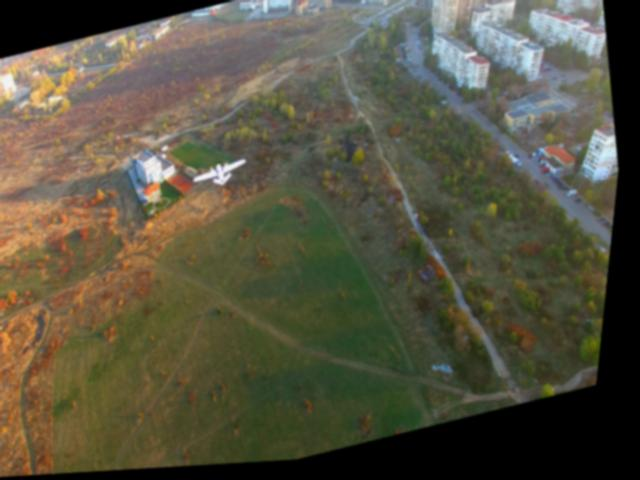plane: (194, 158, 254, 194)
